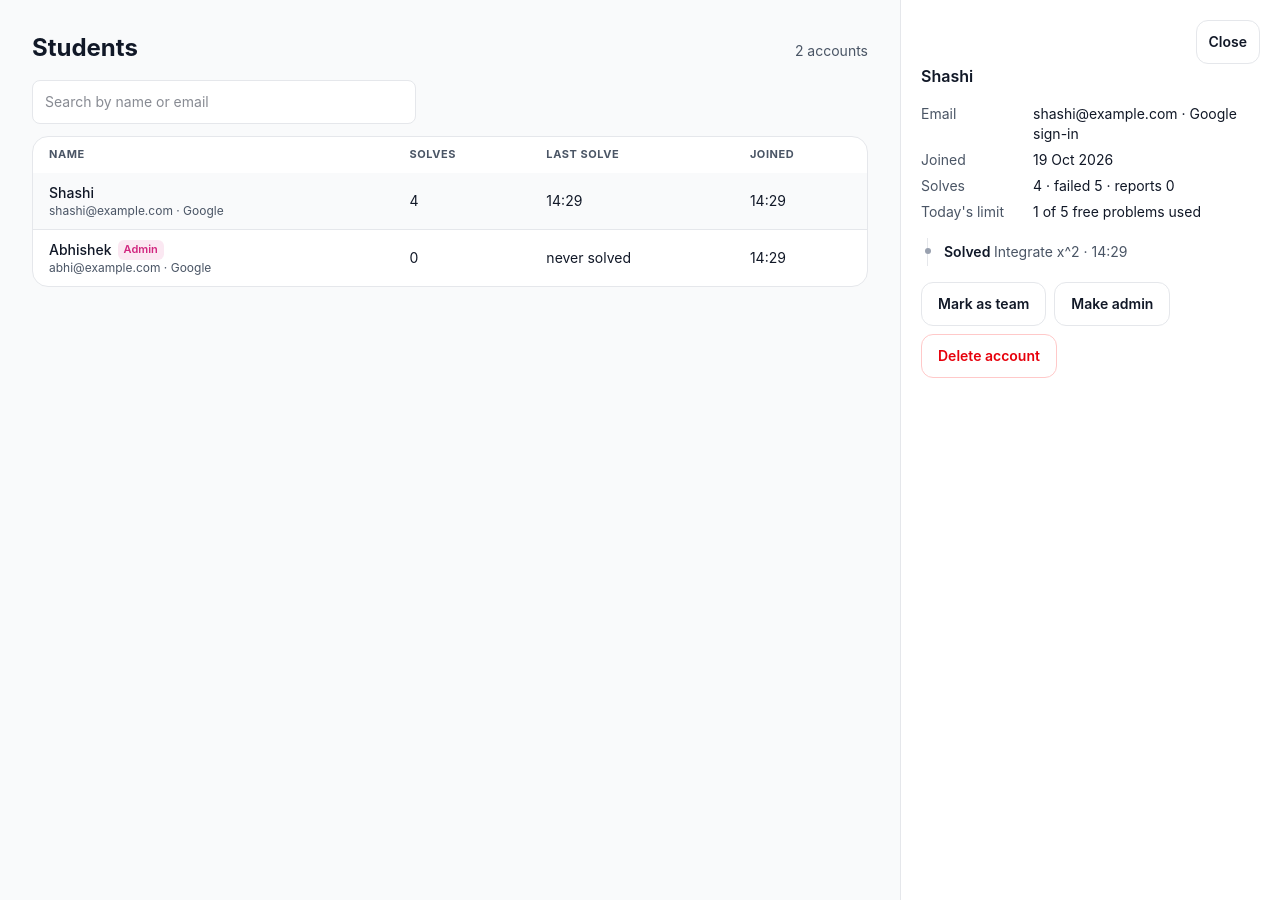
Students › tapping again while it waits takes the change back
What coordinates should you click on to do the following:
click the button "Mark as team"
I would click on:
 (984, 304)
Its box is [921, 282, 1046, 326].
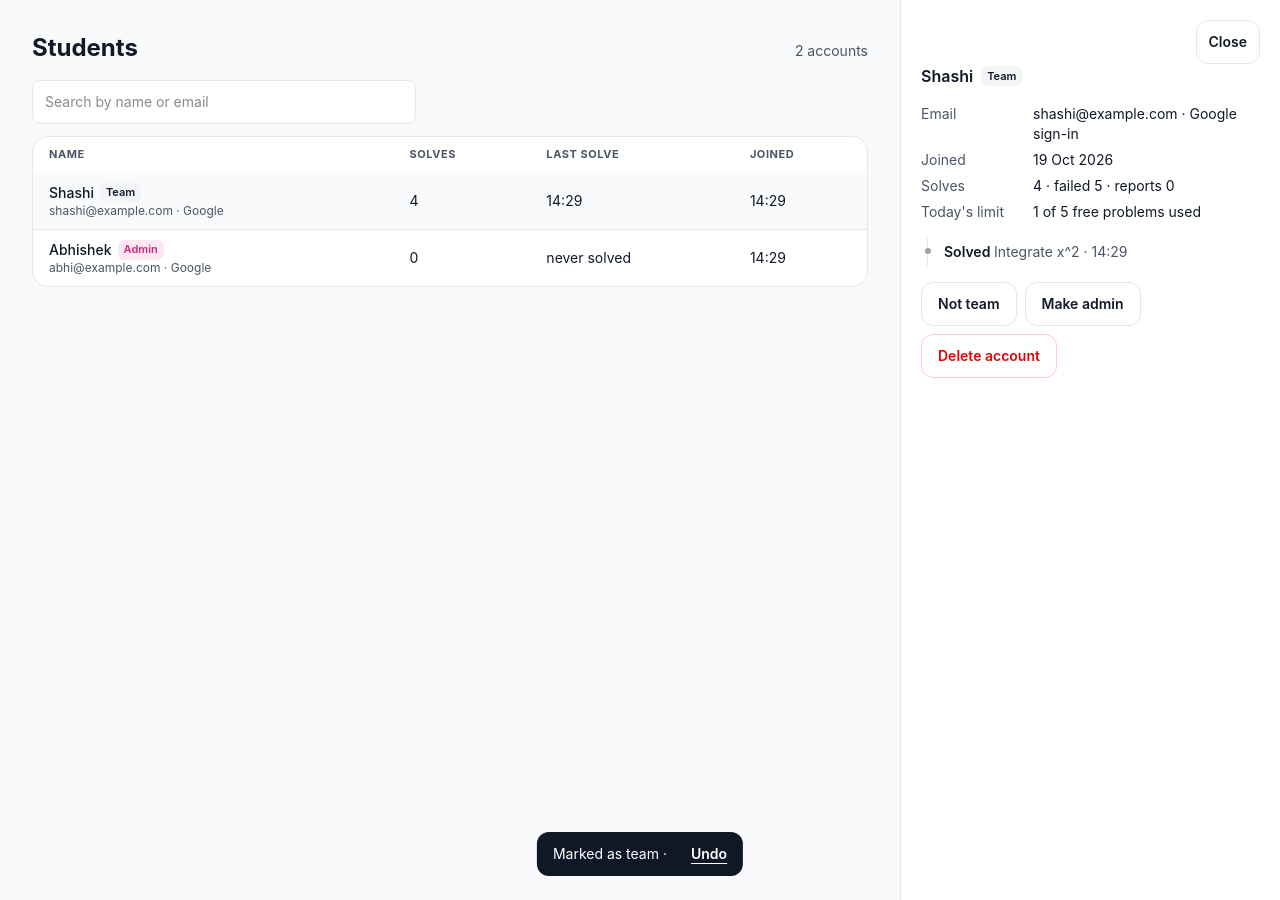
What coordinates should you click on to do the following:
click the button "Not team"
I would click on:
 (969, 304)
Its box is [921, 282, 1016, 326].
Wait 6000 ms
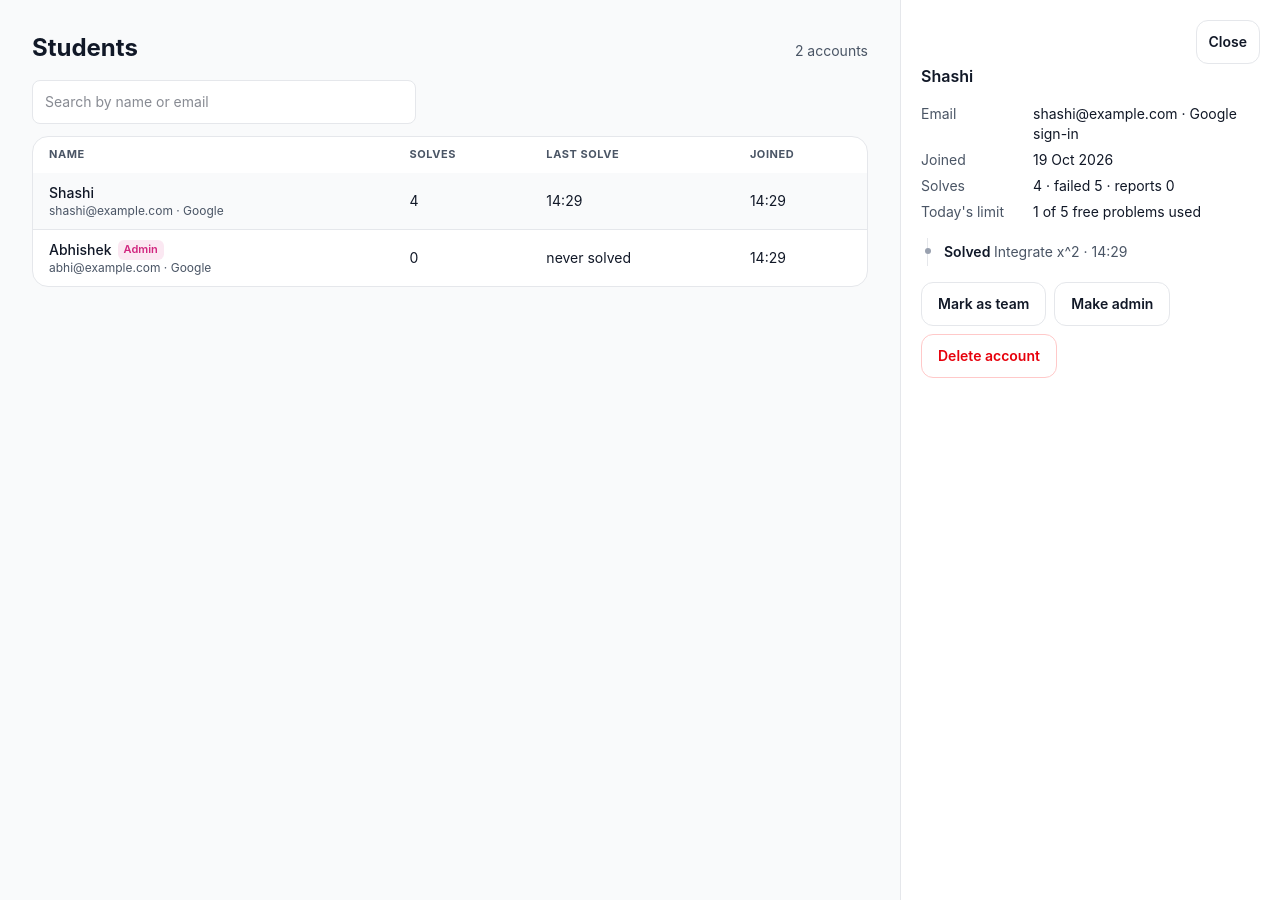
Expected: the button "Mark as team" is shown, [921, 282, 1046, 326]
